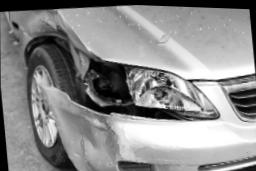Bumper: (39, 85, 231, 171)
Light: (87, 58, 218, 114)
